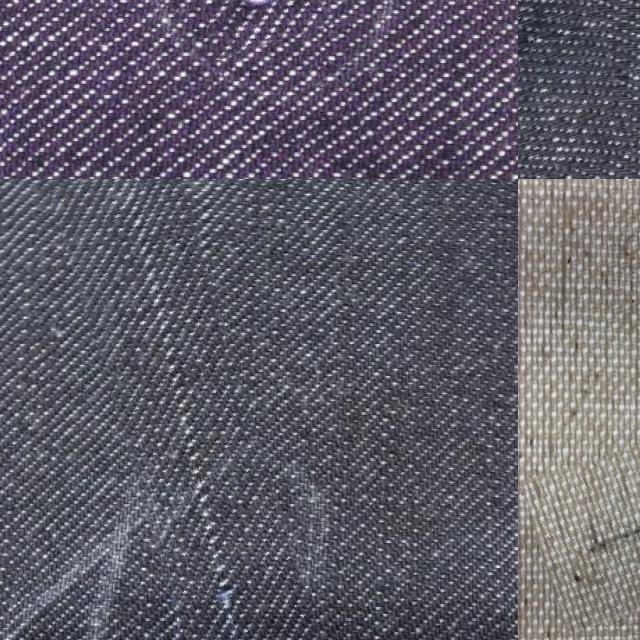stains: (88, 179, 299, 640), (528, 414, 640, 613), (518, 0, 627, 179), (191, 0, 329, 51)
